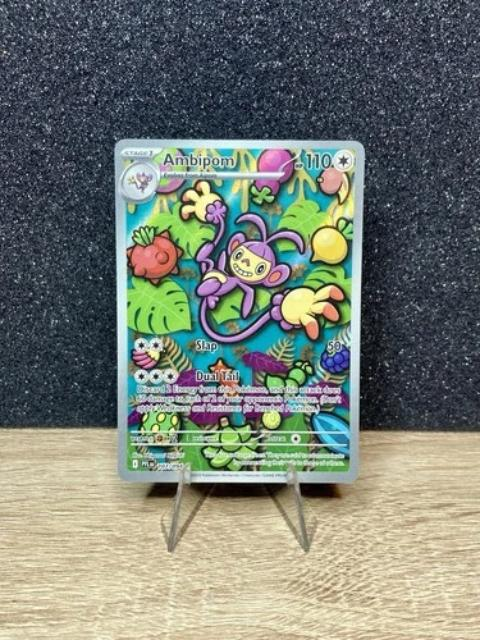Card: (113, 137, 369, 486)
Name: (160, 147, 239, 171)
